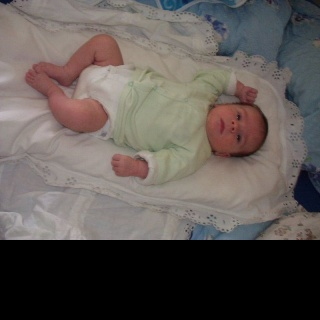without_mask: (206, 103, 268, 158)
